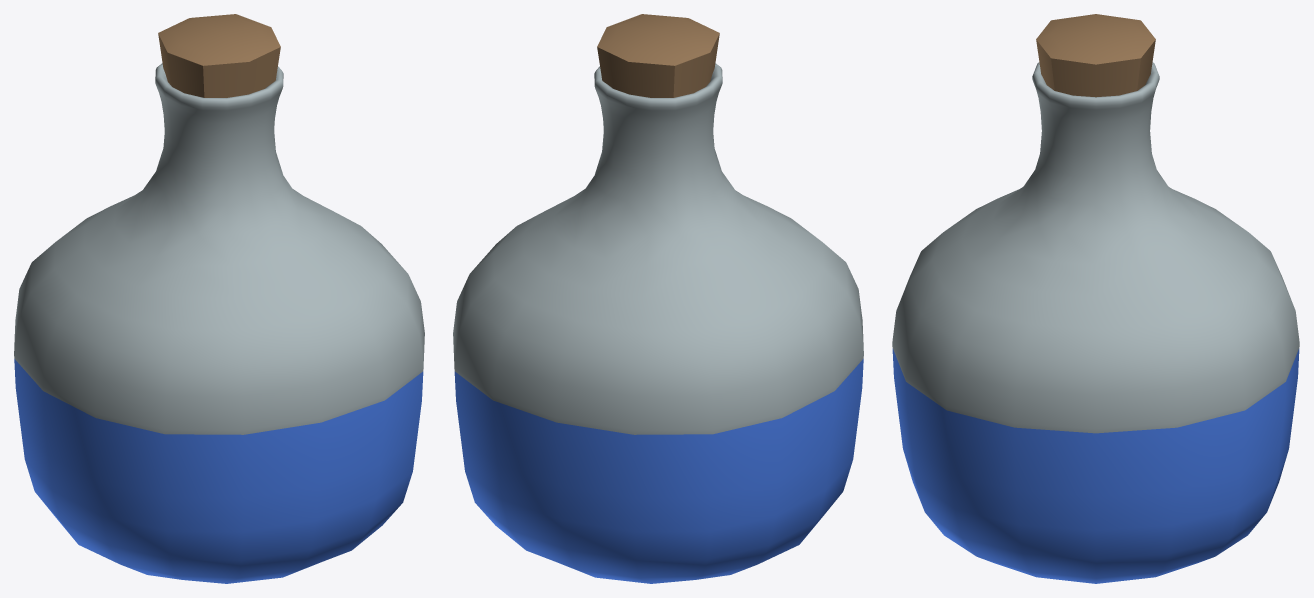
Rendered from potion_blue.glb.
The picture shows the model from 3 angles, left to right: view 1: azimuth 30°, elevation 25°; view 2: azimuth 150°, elevation 25°; view 3: azimuth 270°, elevation 25°; orthographic projection.
Parts seen in each view (by area): view 1: potion_blue; view 2: potion_blue; view 3: potion_blue.
Part boxes in pixels (box(x1,y1,x2,y2)): potion_blue: box(14, 14, 424, 583); potion_blue: box(453, 14, 863, 583); potion_blue: box(892, 14, 1299, 583).
Bounding box in the file's own units: 0.1722 × 0.24 × 0.1722.
